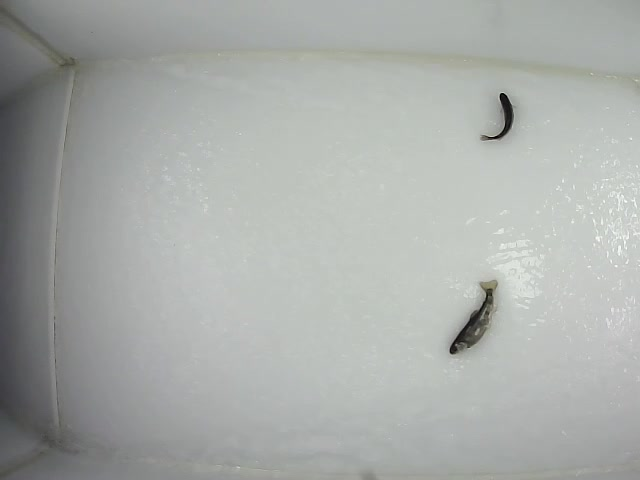fish: (447, 278, 500, 357), (477, 92, 514, 142)
